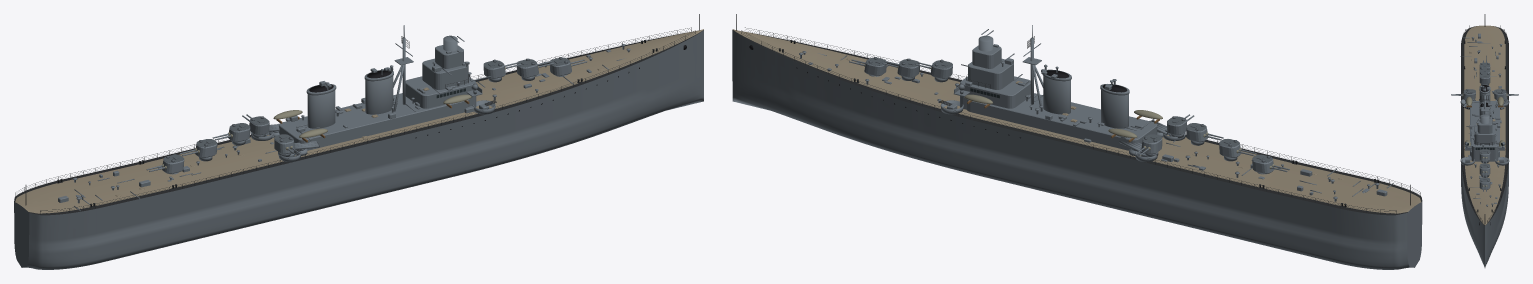
Rendered from atlanta.glb.
3 views of the same model, side by side, from view 1: azimuth 30°, elevation 25°; view 2: azimuth 150°, elevation 25°; view 3: azimuth 270°, elevation 25° (orthographic). The views are drawn at different scales.
Parts seen in each view (by area): view 1: atlanta; view 2: atlanta; view 3: atlanta, T_0_malla, T_1_malla, T_3_malla, T_2_malla, T_7_malla, T_6_malla, T_4_malla, T_5_malla.
Boxes of the visible parts, bbox=[...] form: atlanta: bbox=[14, 14, 703, 269]; atlanta: bbox=[732, 14, 1422, 269]; atlanta: bbox=[1460, 14, 1509, 267]; T_0_malla: bbox=[1479, 177, 1490, 189]; T_1_malla: bbox=[1479, 163, 1490, 175]; T_3_malla: bbox=[1479, 73, 1490, 84]; T_2_malla: bbox=[1479, 149, 1490, 161]; T_7_malla: bbox=[1494, 89, 1507, 100]; T_6_malla: bbox=[1462, 89, 1475, 100]; T_4_malla: bbox=[1479, 67, 1490, 74]; T_5_malla: bbox=[1479, 62, 1490, 69].
Bounding box in the file's own units: 165 × 34.5 × 22.66.
